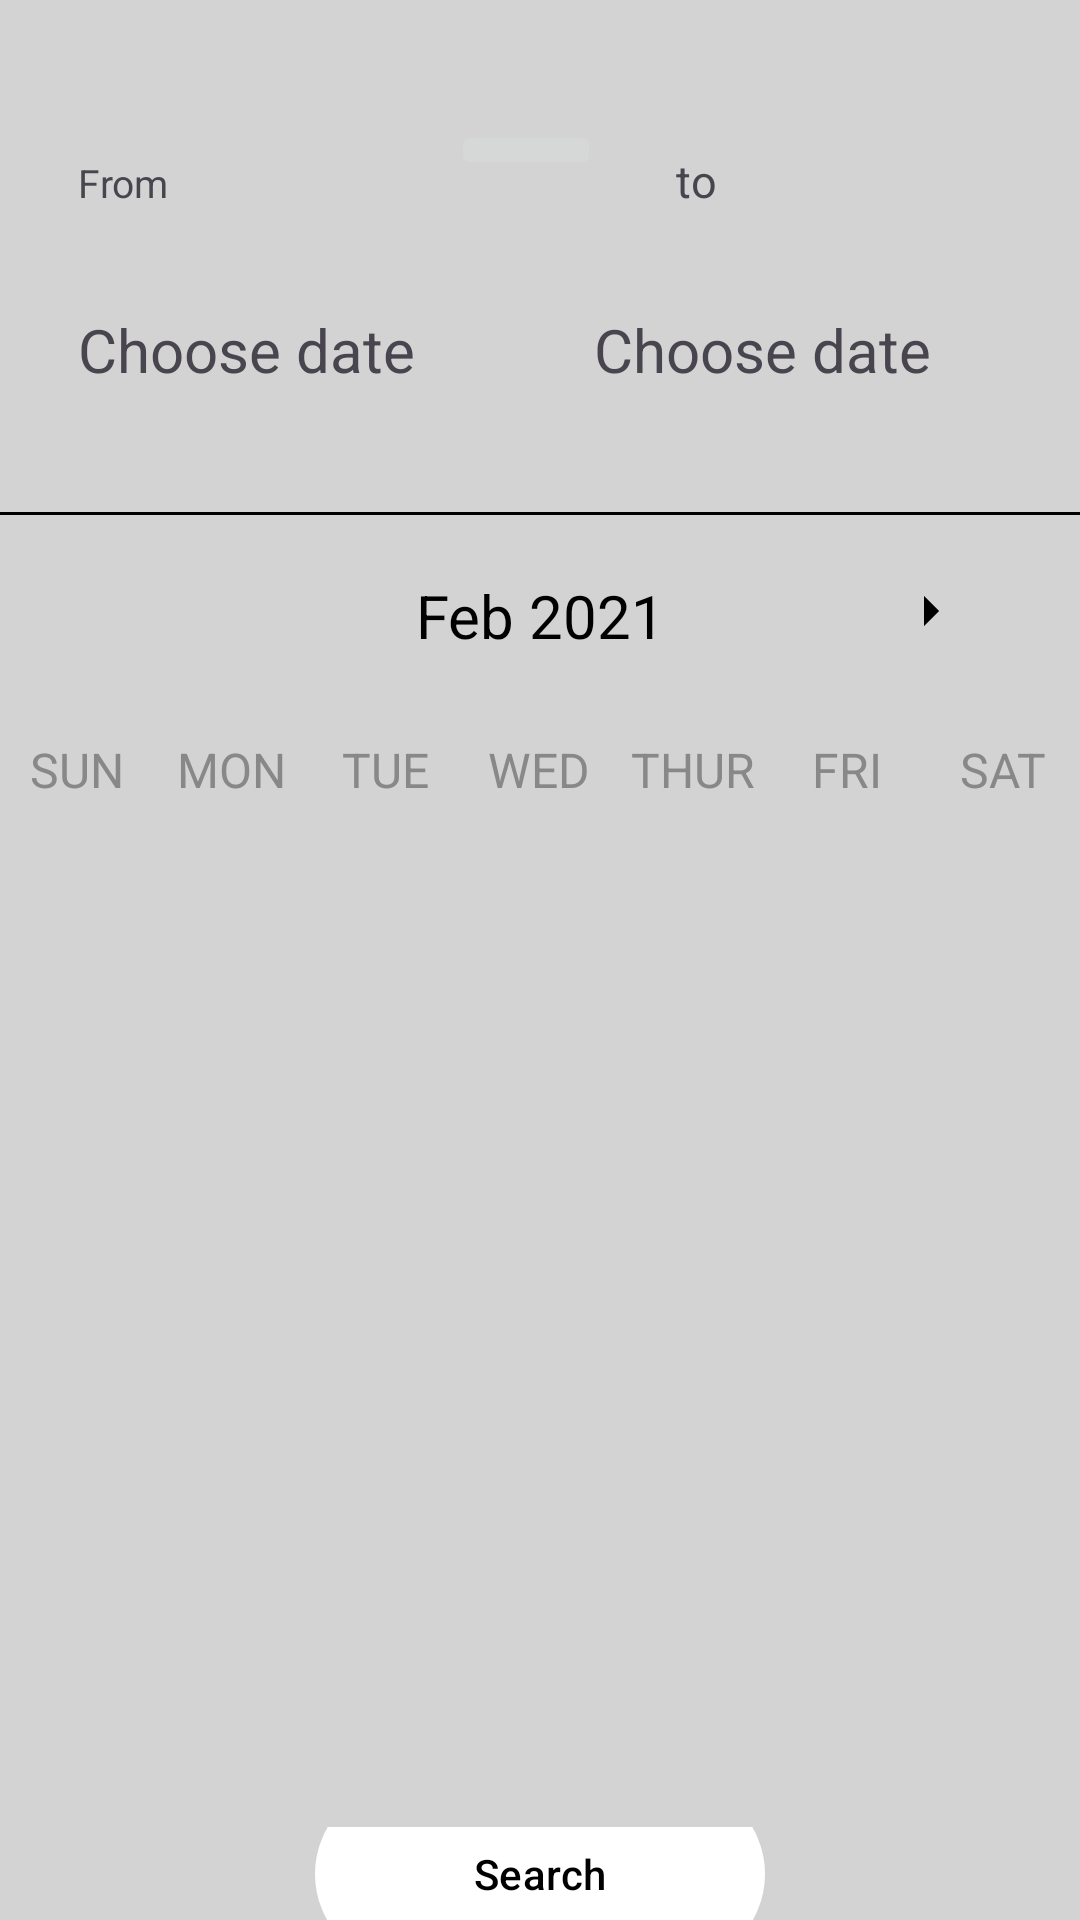

Named icons in this screenshot (1080w x 1920h) and their bounding boxes, (x1, y1, x2, y2):
arrow right: (924, 596, 939, 626)
